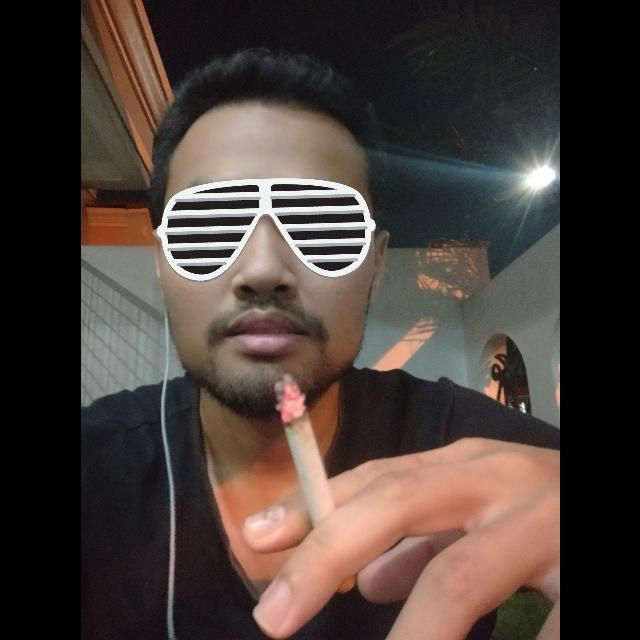rokok: (267, 364, 361, 600)
